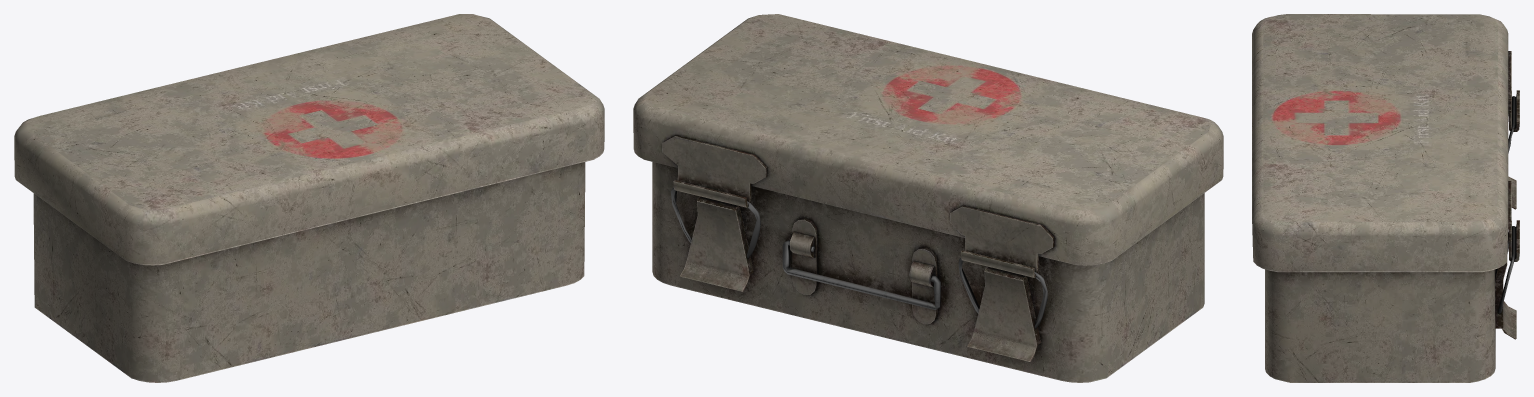
The model's file is first_aid_kit.glb.
The picture shows the model from 3 angles, left to right: view 1: azimuth 30°, elevation 25°; view 2: azimuth 150°, elevation 25°; view 3: azimuth 270°, elevation 25°; orthographic projection. The views are drawn at different scales.
Visible parts, largest first — view 1: Object_2; view 2: Object_2; view 3: Object_2.
Part boxes in pixels (x1,y1,x2,y2): Object_2: (14,14,604,382); Object_2: (633,14,1223,382); Object_2: (1252,14,1519,382).
Bounding box in the file's own units: 0.4 × 0.14 × 0.209.
Materials: 1 (1 with a texture image).
